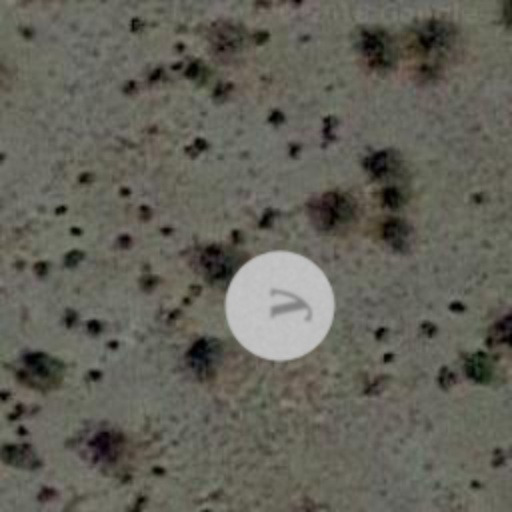circle: (224, 250, 336, 362)
